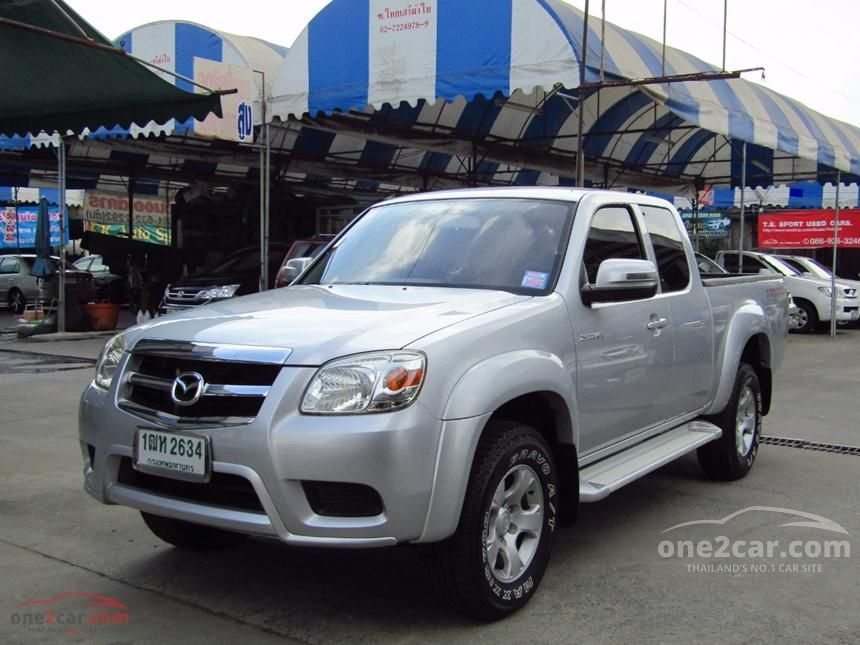pickup: (75, 181, 791, 619)
